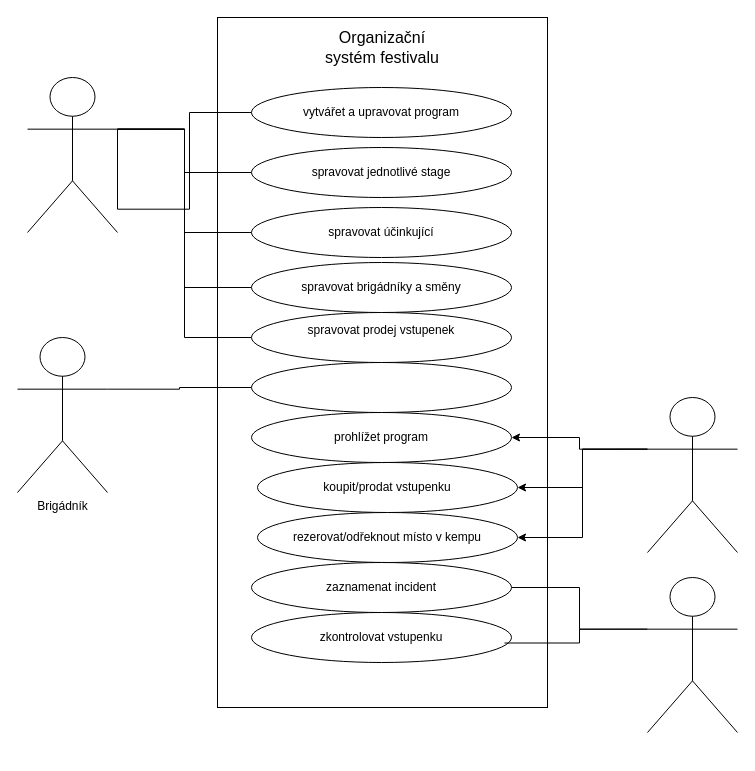
This 755x771 diagram has some shape labels left out. The shapes that lost their labels are listed below. From the top down, each one's box as (x1, y1, x2, y2) in pixels, then its label:
(26, 76, 118, 232): Pořadatel
(250, 362, 512, 412): zobrazit své směny
(646, 396, 738, 552): Návštěvník
(646, 576, 738, 732): Ostraha
